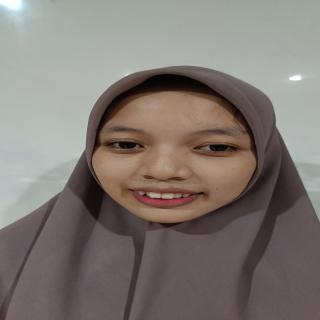Senang: (90, 80, 251, 228)
